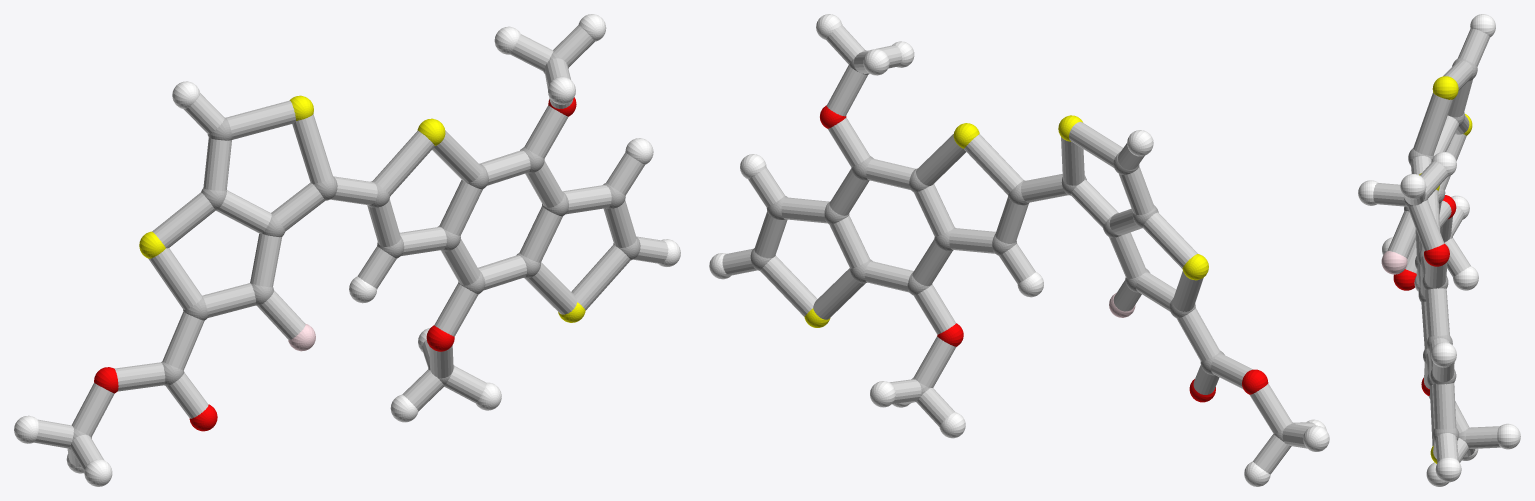
File: color.glb
3 views of the same model, side by side, from view 1: azimuth 30°, elevation 25°; view 2: azimuth 150°, elevation 25°; view 3: azimuth 270°, elevation 25° (orthographic). The views are drawn at different scales.
Parts seen in each view (by area): view 1: grp15205, grp8689, grp1, grp7241, grp13395; view 2: grp15205, grp8689, grp1, grp7241, grp13395; view 3: grp15205, grp8689, grp1, grp13395, grp7241, grp14843.
Part boxes in pixels (left/top/right/bottom): grp15205: left=34, top=25, right=668, bottom=471; grp8689: left=14, top=14, right=680, bottom=486; grp1: left=69, top=51, right=640, bottom=450; grp7241: left=139, top=95, right=585, bottom=322; grp13395: left=94, top=97, right=576, bottom=431; grp15205: left=722, top=25, right=1315, bottom=474; grp8689: left=709, top=14, right=1329, bottom=486; grp1: left=750, top=50, right=1294, bottom=446; grp7241: left=804, top=115, right=1208, bottom=327; grp13395: left=820, top=105, right=1268, bottom=402; grp15205: left=1373, top=28, right=1500, bottom=462; grp8689: left=1358, top=14, right=1520, bottom=486; grp1: left=1404, top=58, right=1477, bottom=449; grp13395: left=1393, top=195, right=1456, bottom=395; grp7241: left=1419, top=76, right=1472, bottom=463; grp14843: left=1381, top=251, right=1407, bottom=274.
Bounding box in the file's own units: 16.18 × 9.1 × 3.77.
